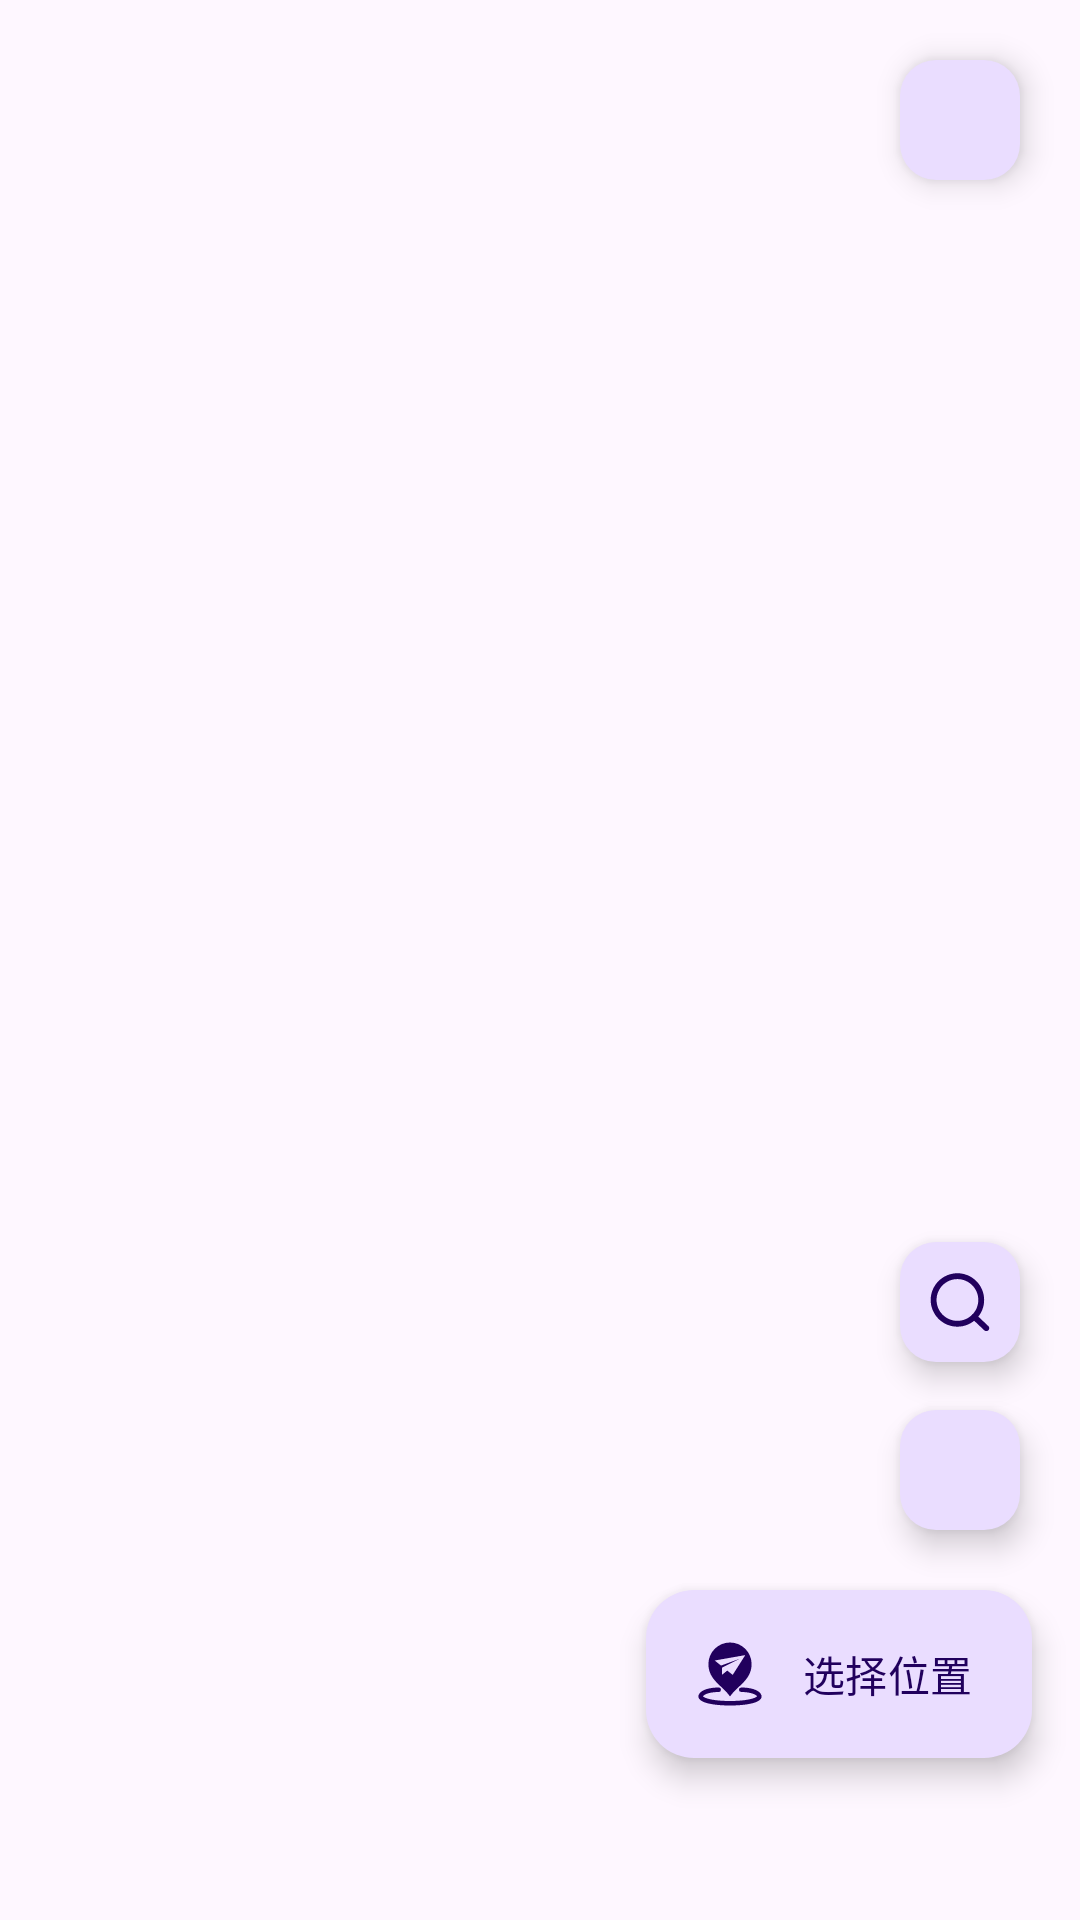

Where to tap for icons on this 1080x1920 app screen, as point (x, y):
search: point (961, 1307)
